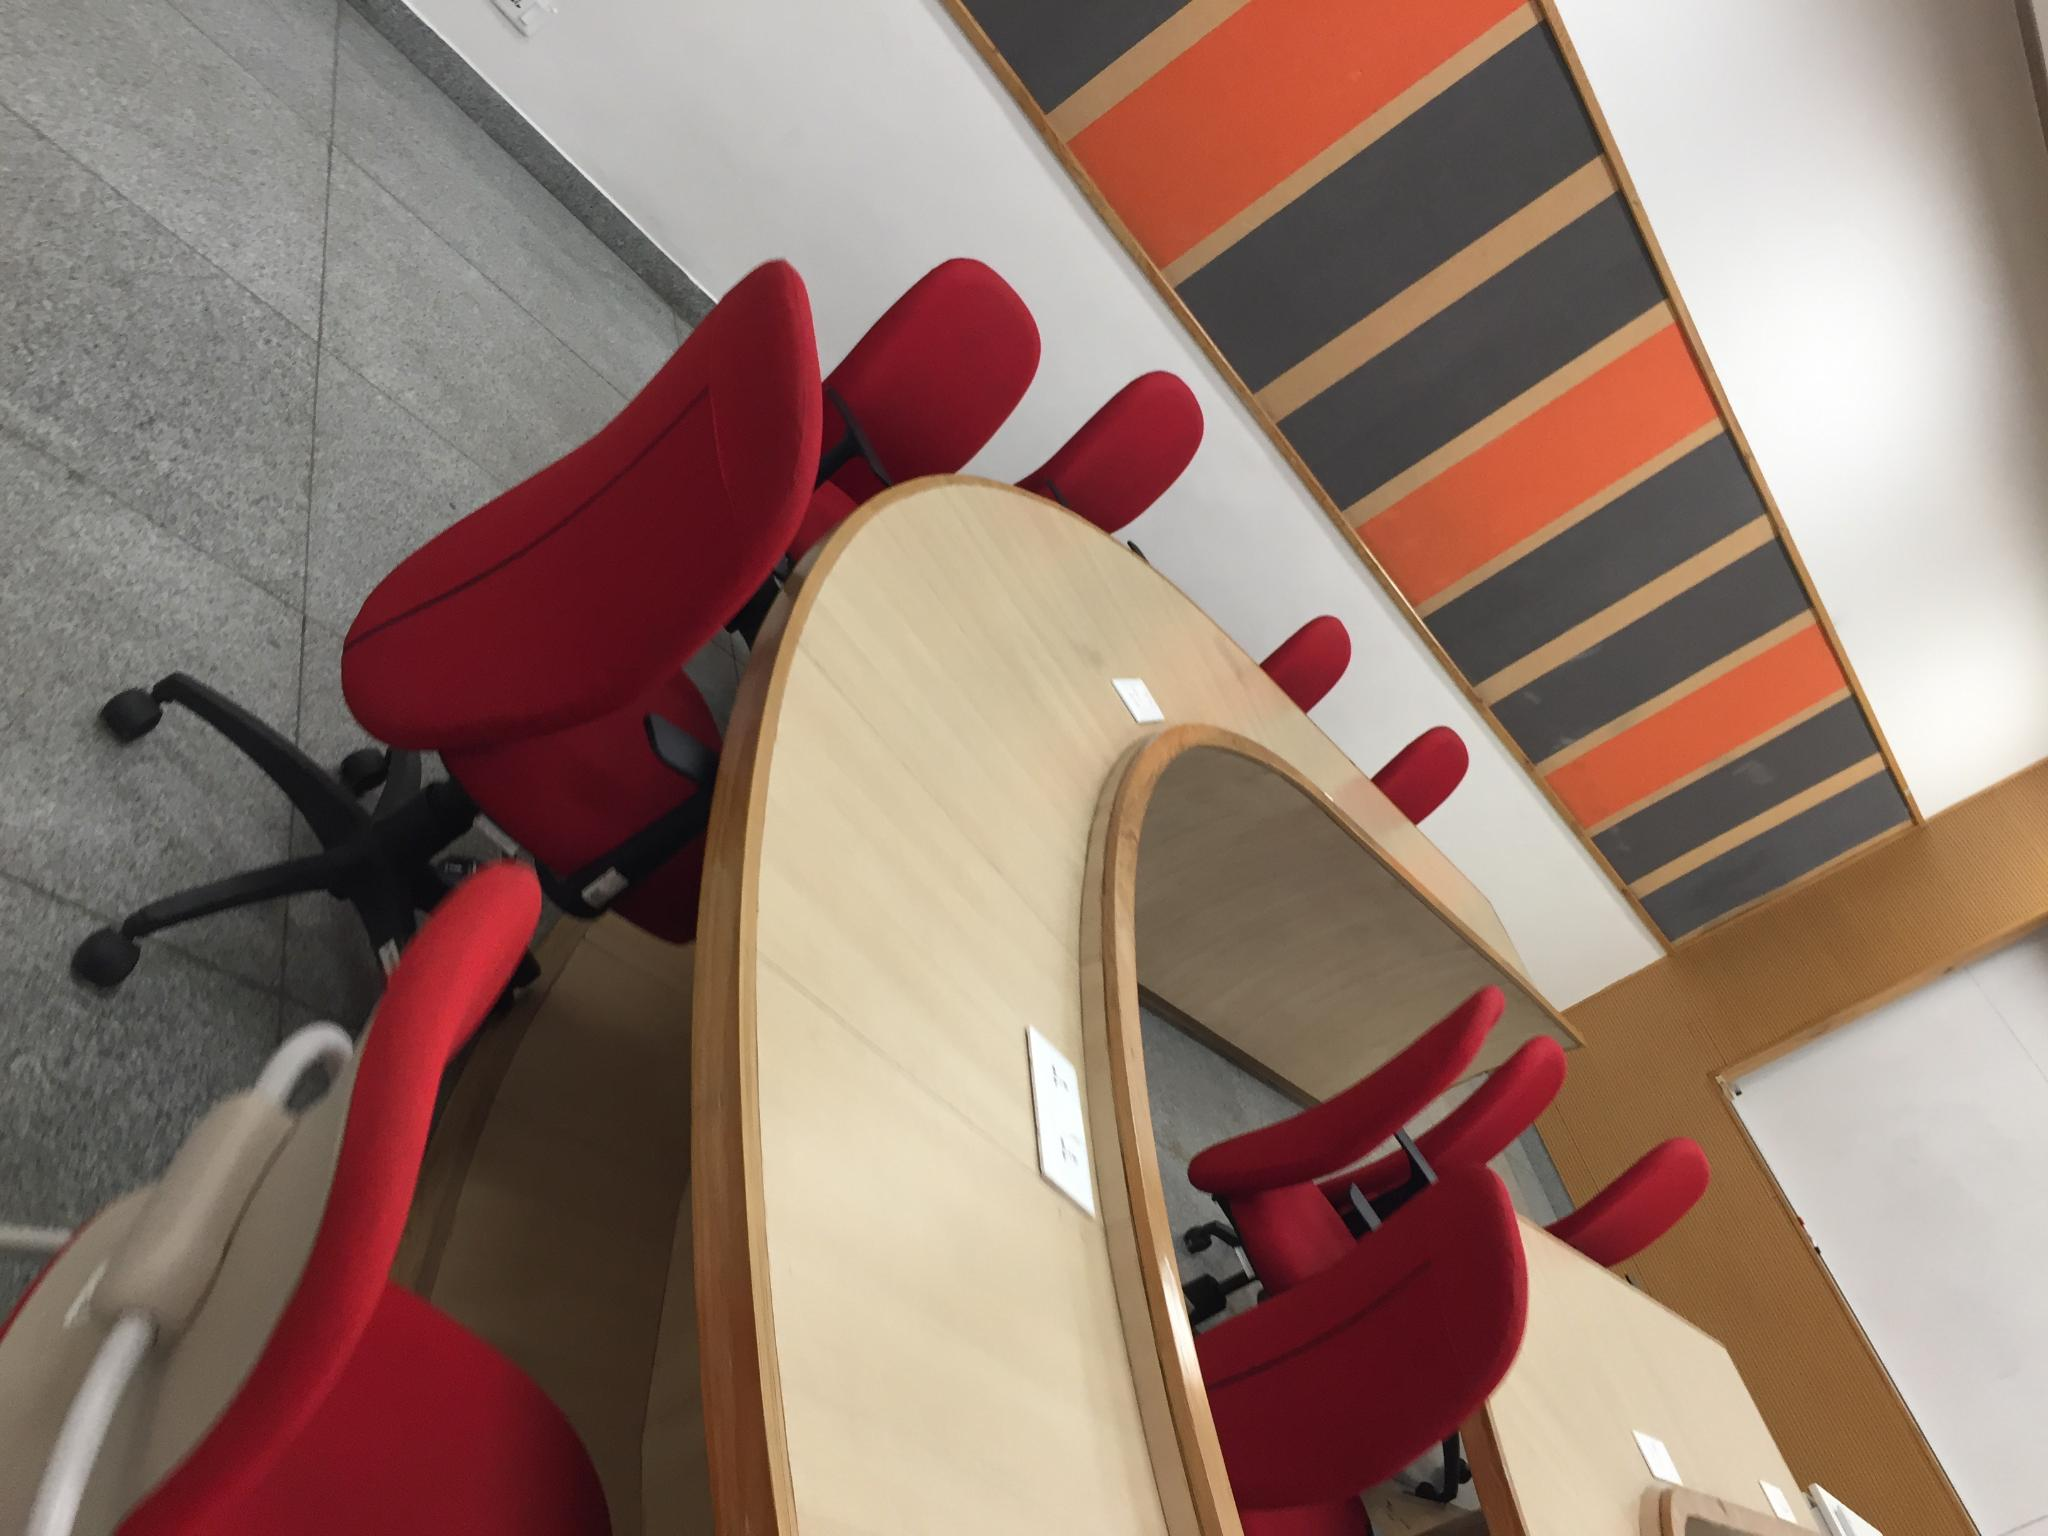chair: (69, 257, 824, 992), (2, 857, 611, 1534), (1156, 1200, 1522, 1528), (1206, 939, 1500, 1258), (819, 252, 1079, 497), (1327, 1044, 1605, 1217), (1026, 378, 1238, 563), (1522, 1126, 1753, 1276), (1243, 615, 1388, 707), (1363, 750, 1498, 839)
